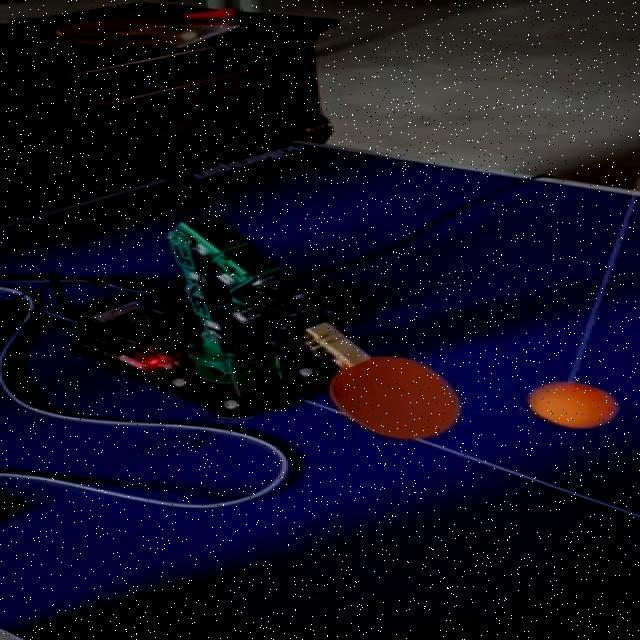ping-pong-ball: (530, 379, 614, 427)
